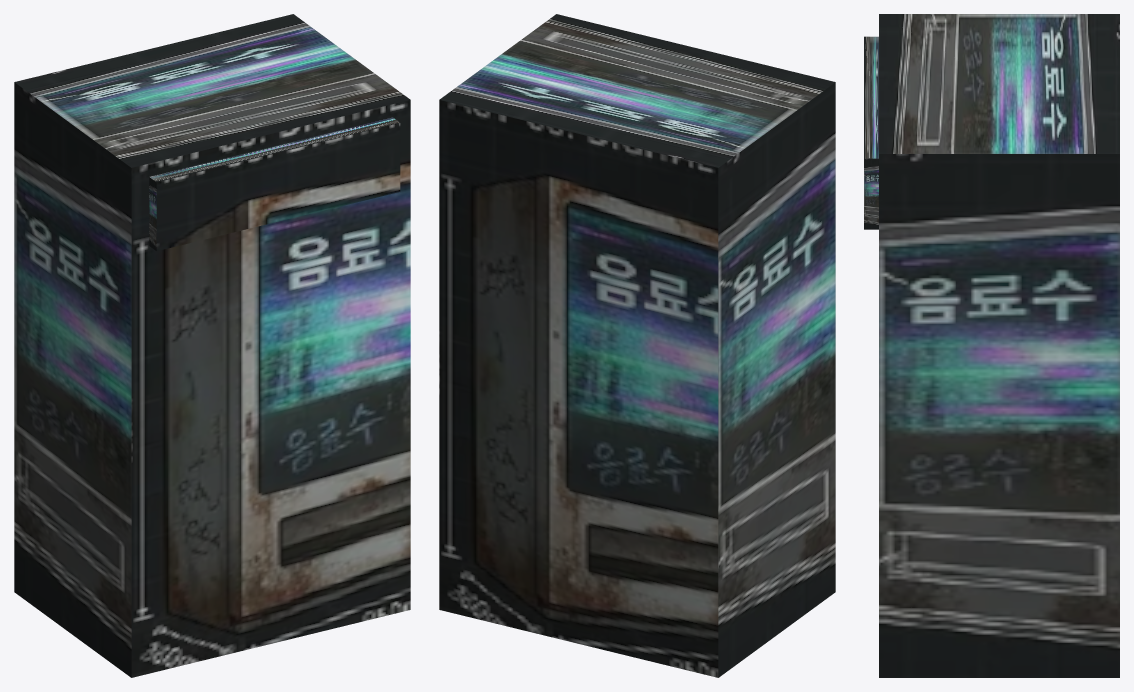
File: sf_anim_vending_arcade.glb
The picture shows the model from 3 angles, left to right: view 1: azimuth 30°, elevation 25°; view 2: azimuth 150°, elevation 25°; view 3: azimuth 270°, elevation 25°; orthographic projection. The views are drawn at different scales.
Visible parts, largest first — view 1: HorrorDrinkVendingMachine_Root, HorrorDrinkVendingMachine_AnimPart; view 2: HorrorDrinkVendingMachine_Root; view 3: HorrorDrinkVendingMachine_Root, HorrorDrinkVendingMachine_AnimPart.
Boxes of the visible parts, box(x1,y1,x2,y2) form: HorrorDrinkVendingMachine_Root: box(14, 14, 410, 677); HorrorDrinkVendingMachine_AnimPart: box(149, 117, 400, 251); HorrorDrinkVendingMachine_Root: box(439, 14, 835, 677); HorrorDrinkVendingMachine_Root: box(879, 14, 1119, 677); HorrorDrinkVendingMachine_AnimPart: box(864, 36, 878, 229).
Size of the model in its own units: 1.1 by 1.92 by 0.85.
1 material, 1 textured.
